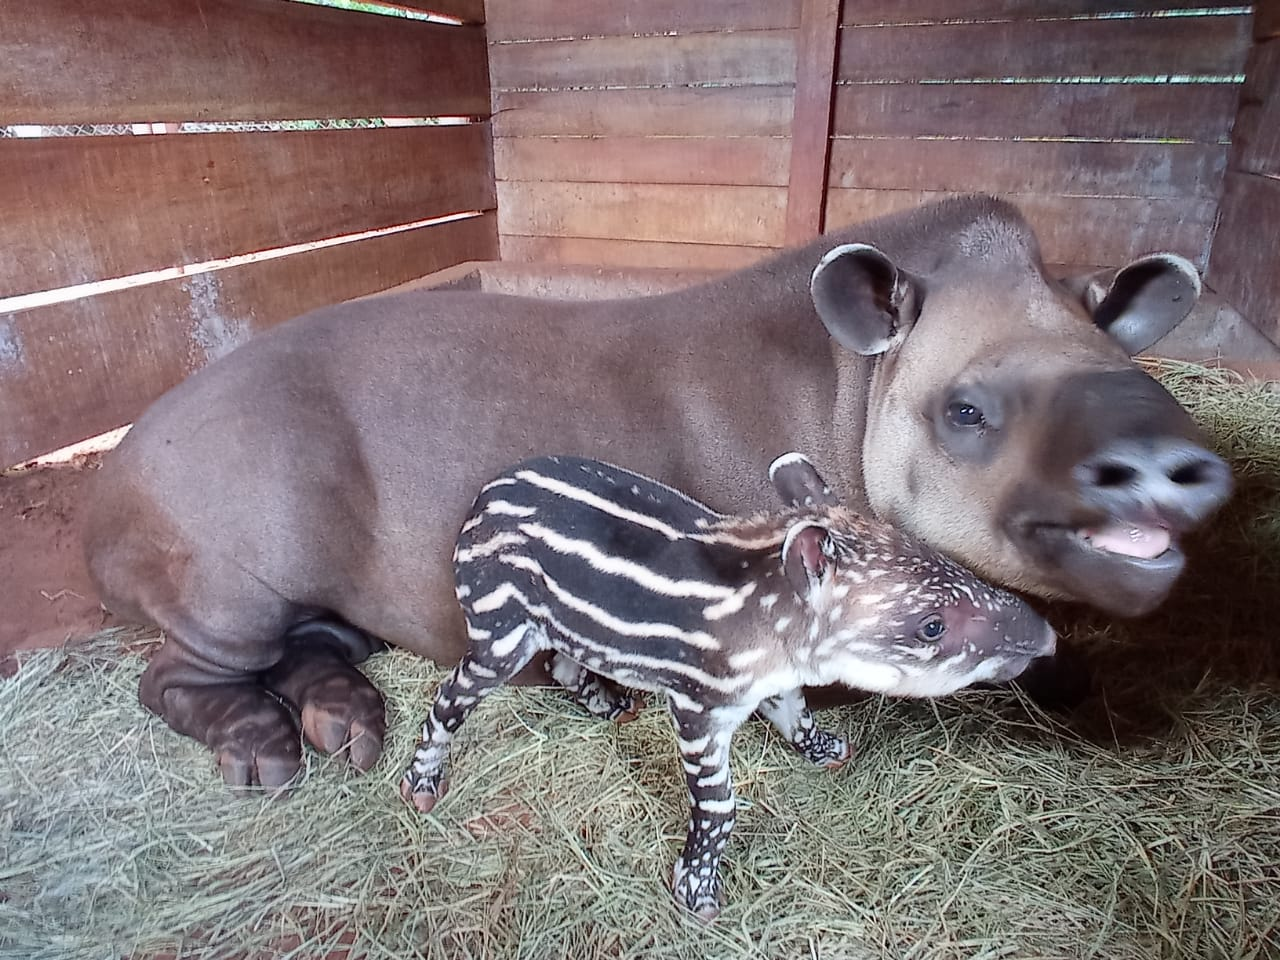Anta: (77, 177, 1242, 786), (389, 453, 1076, 930)
